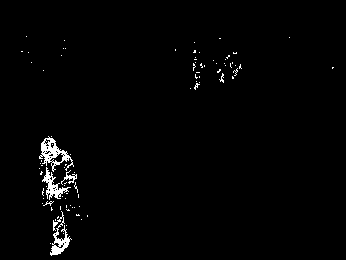person: (36, 135, 82, 258)
